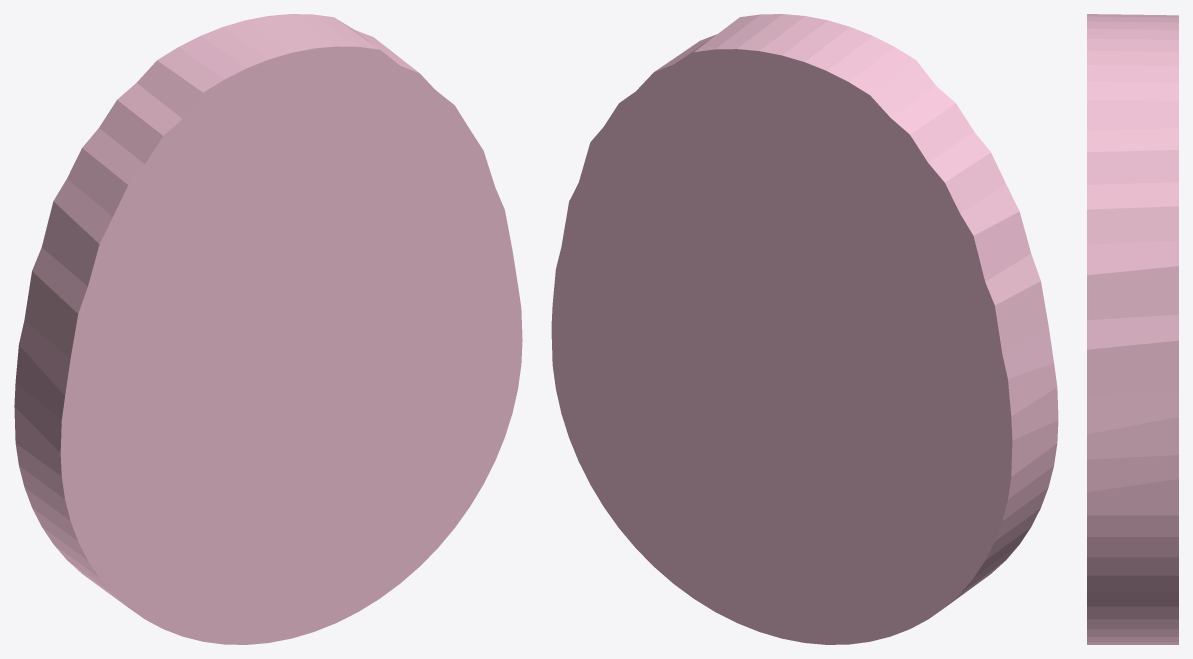
File: head_04.glb
3 views of the same model, side by side, from view 1: azimuth 30°, elevation 25°; view 2: azimuth 150°, elevation 25°; view 3: azimuth 270°, elevation 25° (orthographic).
Visible parts, largest first — view 1: head_04; view 2: head_04; view 3: head_04.
Boxes of the visible parts, left/top/right/bottom form: head_04: left=14, top=14, right=522, bottom=644; head_04: left=551, top=14, right=1058, bottom=644; head_04: left=1087, top=14, right=1178, bottom=644.
Bounding box in the file's own units: 2.23 × 2.7 × 0.3857.
